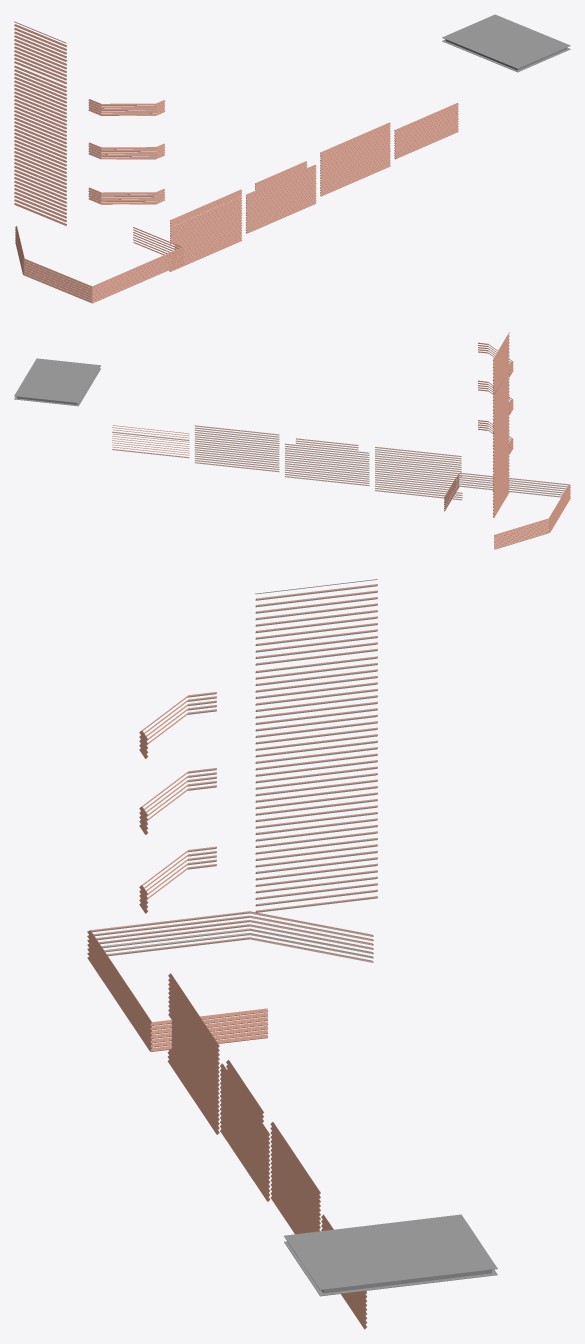
The model's file is 2cfafcac-0bf1-48f0-b026-41fc7480ffae.glb.
3 renders of one model, top to bottom at view 1: azimuth 30°, elevation 25°; view 2: azimuth 150°, elevation 25°; view 3: azimuth 270°, elevation 25°, orthographic. The views are drawn at different scales.
Parts seen in each view (by area): view 1: 4278; view 2: 4278; view 3: 4278.
Boxes of the visible parts, x1,y1,x2,y2 form: 4278: (442, 14, 570, 68); 4278: (14, 358, 100, 403); 4278: (284, 1214, 497, 1290).
Size of the model in its own units: 48.07 by 18.61 by 17.24.
